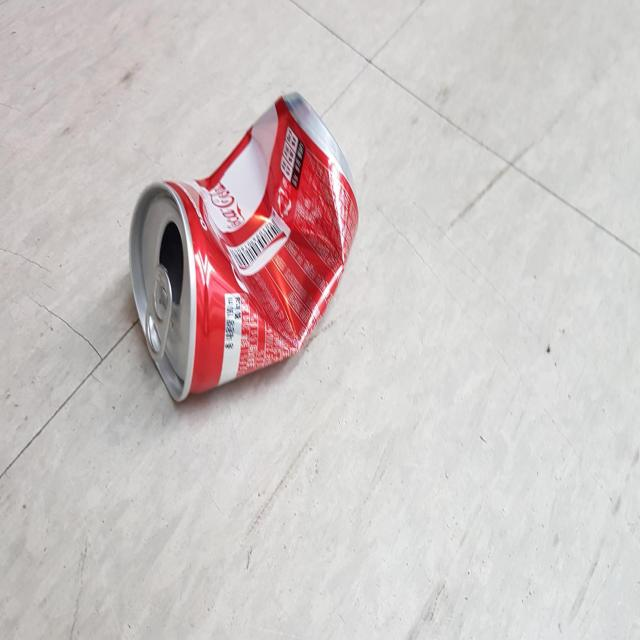can: (129, 92, 358, 401)
